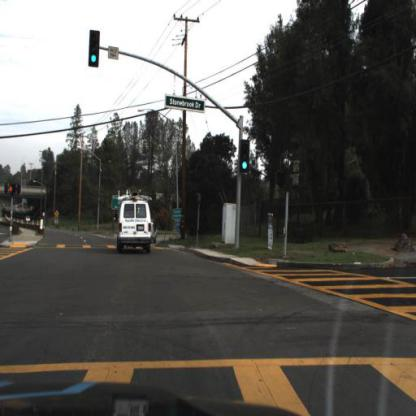car: (113, 194, 153, 251)
trafficLight-Green: (86, 26, 104, 72), (238, 138, 250, 172), (238, 157, 250, 177)
